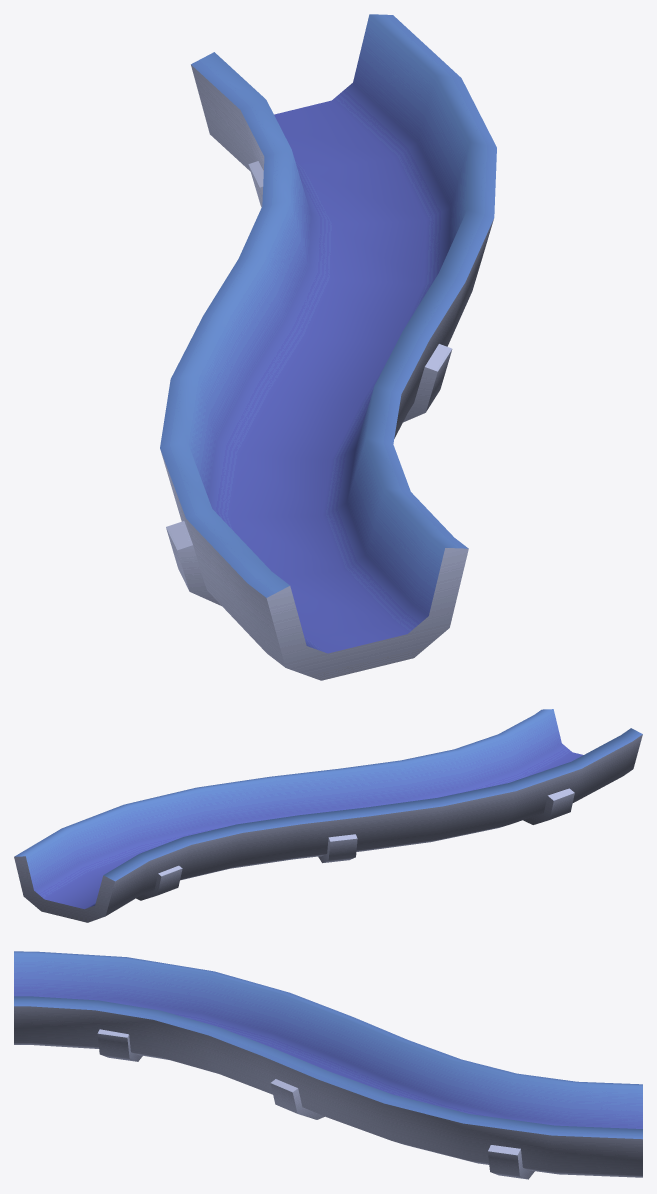
File: coaster-flume-curve.glb
3 renders of one model, top to bottom at view 1: azimuth 30°, elevation 25°; view 2: azimuth 150°, elevation 25°; view 3: azimuth 270°, elevation 25°, orthographic. The views are drawn at different scales.
Visible parts, largest first — view 1: coaster-flume-curve; view 2: coaster-flume-curve; view 3: coaster-flume-curve.
Boxes of the visible parts, x1,y1,x2,y2 form: coaster-flume-curve: (160, 14, 496, 680); coaster-flume-curve: (14, 709, 642, 922); coaster-flume-curve: (14, 951, 642, 1179).
Size of the model in its own units: 8.48 by 1.35 by 12.
1 material, 1 textured.
